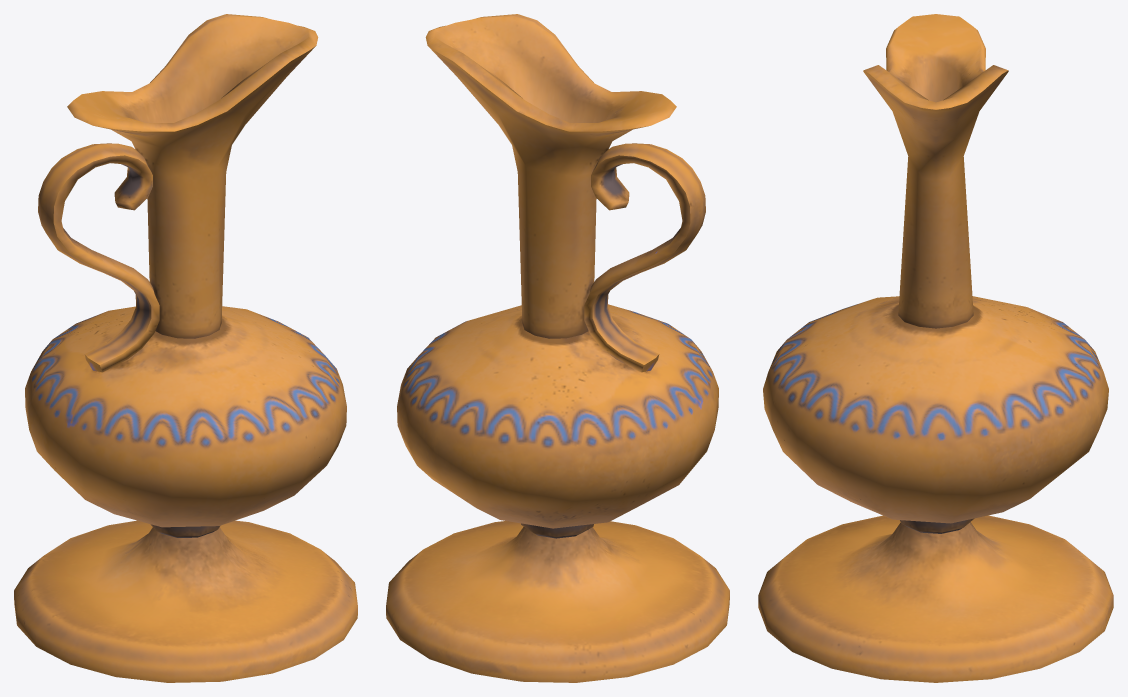
File: SM_Potion_Props_Jug_02.fbx
The picture shows the model from 3 angles, left to right: view 1: azimuth 30°, elevation 25°; view 2: azimuth 150°, elevation 25°; view 3: azimuth 270°, elevation 25°; orthographic projection. The views are drawn at different scales.
Visible parts, largest first — view 1: SM_Potion_Props_Jug_02_LOD0; view 2: SM_Potion_Props_Jug_02_LOD0; view 3: SM_Potion_Props_Jug_02_LOD0.
Boxes of the visible parts, box(x1,y1,x2,y2) form: SM_Potion_Props_Jug_02_LOD0: box(14, 14, 357, 682); SM_Potion_Props_Jug_02_LOD0: box(386, 14, 729, 682); SM_Potion_Props_Jug_02_LOD0: box(758, 14, 1113, 682).
Size of what is drawn, in the model's own units: 29.58 by 52.74 by 29.58.
